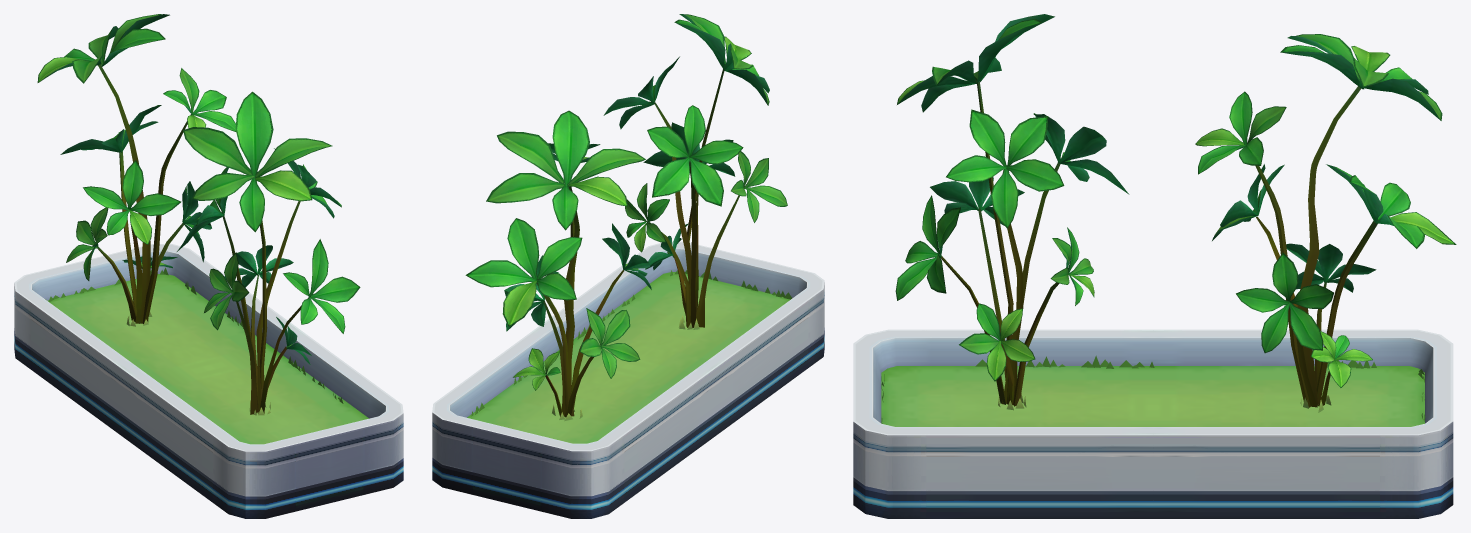
File: my_millenniumlounge_01_plantpot_01.glb
3 renders of one model, left to right at view 1: azimuth 30°, elevation 25°; view 2: azimuth 150°, elevation 25°; view 3: azimuth 270°, elevation 25°, orthographic. The views are drawn at different scales.
Visible parts, largest first — view 1: my_millenniumlounge_01_plantpot_01; view 2: my_millenniumlounge_01_plantpot_01; view 3: my_millenniumlounge_01_plantpot_01.
Boxes of the visible parts, x1,y1,x2,y2 form: my_millenniumlounge_01_plantpot_01: (14,14,403,518); my_millenniumlounge_01_plantpot_01: (432,14,824,518); my_millenniumlounge_01_plantpot_01: (853,14,1456,518).
Bounding box in the file's own units: 0.0075 × 0.0147 × 0.0181.
2 materials, 2 textured.
